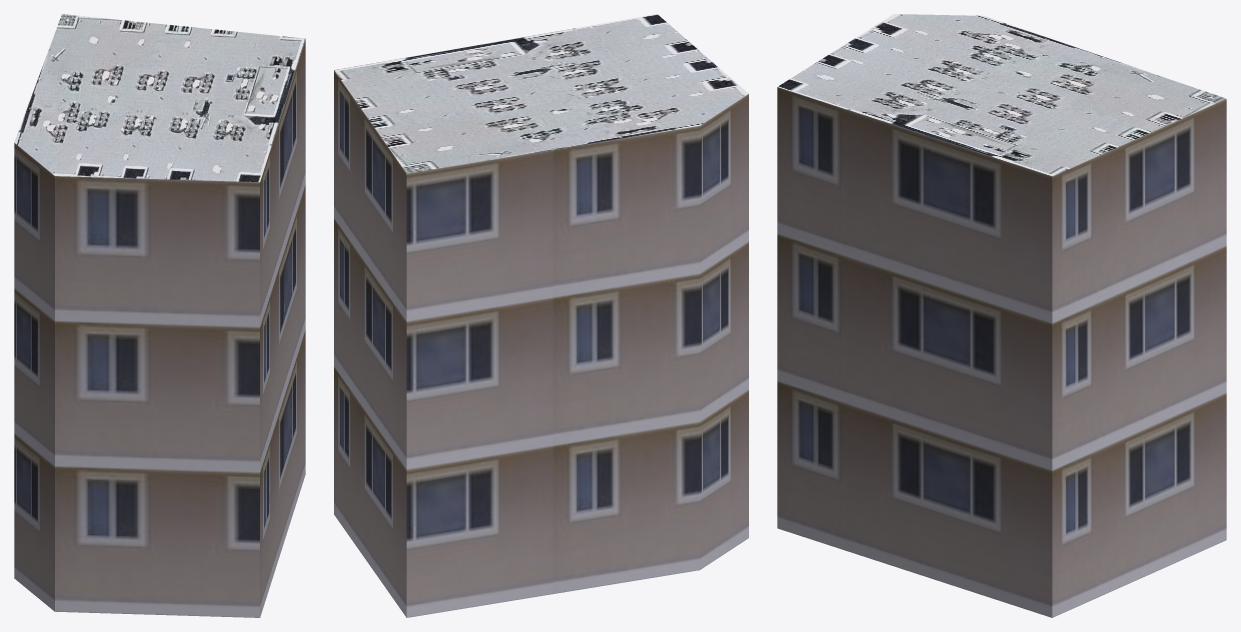
Rendered from ResTex__5242.fbx.
3 views of the same model, side by side, from view 1: azimuth 30°, elevation 25°; view 2: azimuth 150°, elevation 25°; view 3: azimuth 270°, elevation 25° (orthographic).
Visible parts, largest first — view 1: CityEngineMaterial_21_m, CityEngineMaterial_2_m; view 2: CityEngineMaterial_21_m, CityEngineMaterial_2_m; view 3: CityEngineMaterial_21_m, CityEngineMaterial_2_m.
Boxes of the visible parts, x1,y1,x2,y2 form: CityEngineMaterial_21_m: [14, 39, 305, 617]; CityEngineMaterial_2_m: [14, 14, 305, 182]; CityEngineMaterial_21_m: [334, 70, 748, 617]; CityEngineMaterial_2_m: [334, 14, 748, 173]; CityEngineMaterial_21_m: [777, 87, 1226, 617]; CityEngineMaterial_2_m: [777, 14, 1226, 176].
Size of the model in its own units: 7.11 by 9 by 8.31.
Materials: 2 (2 with a texture image).
